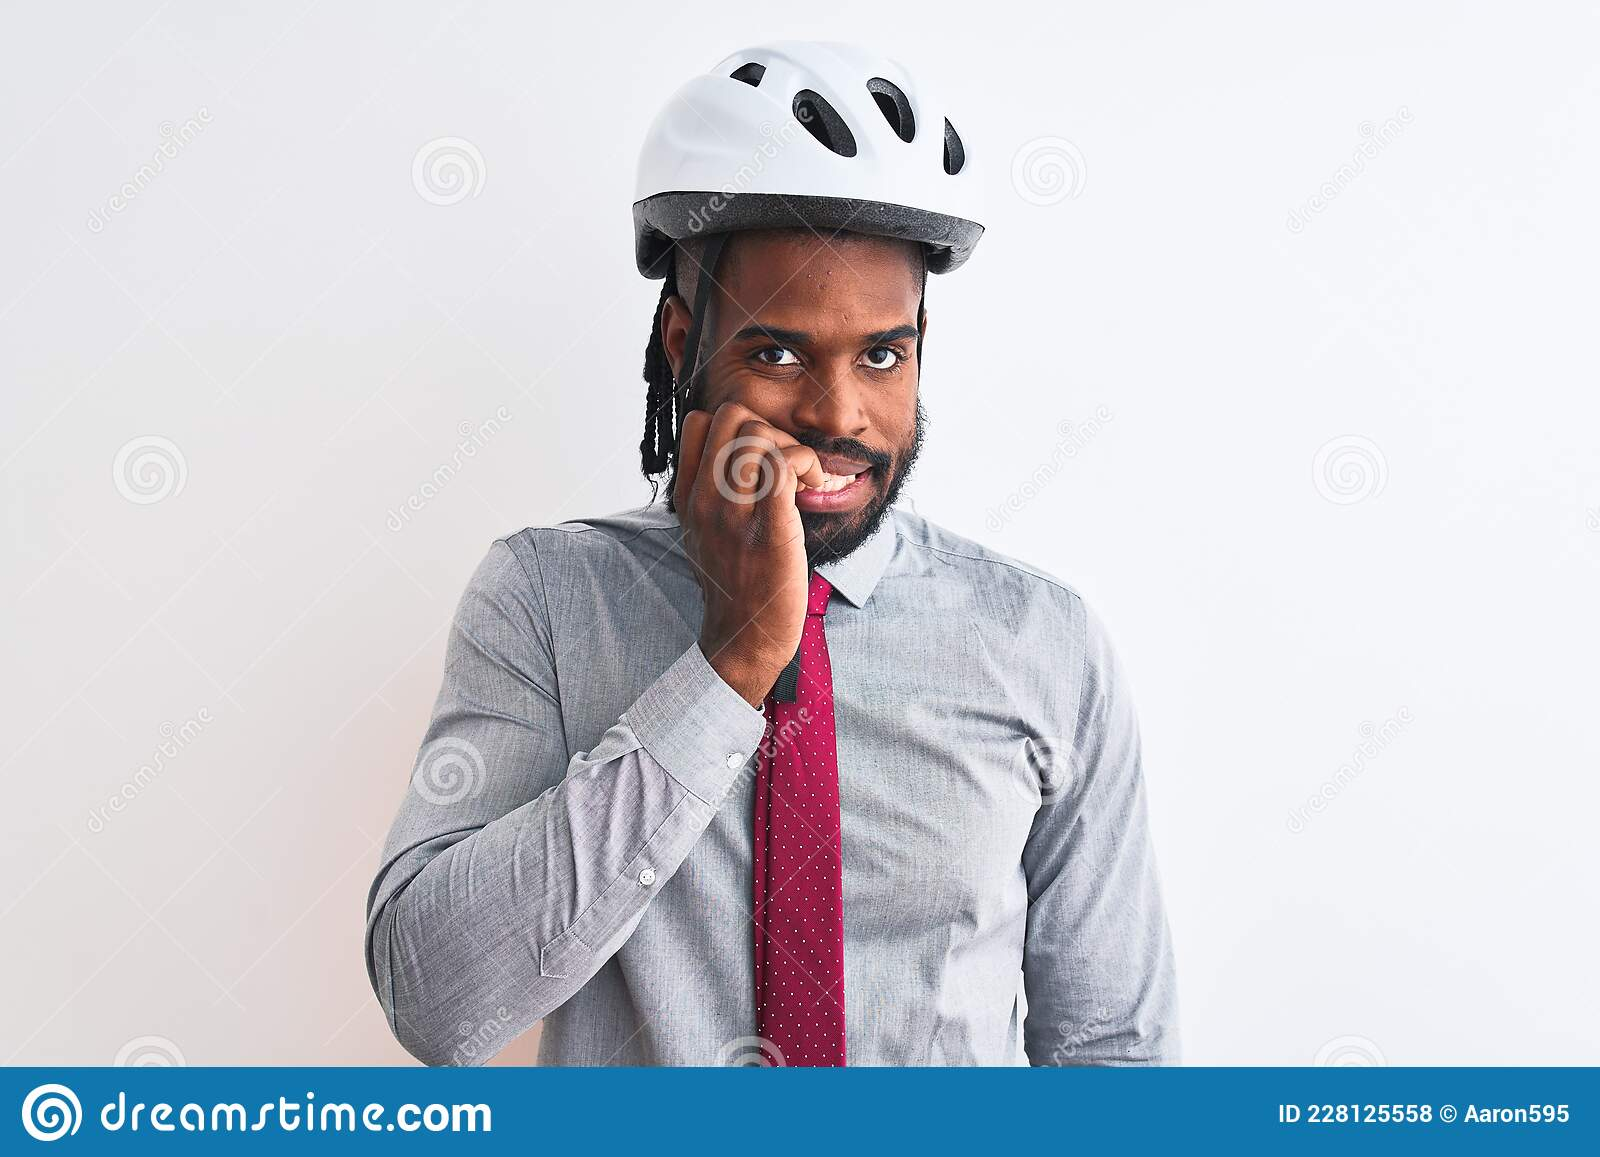helmet: (635, 39, 986, 560)
